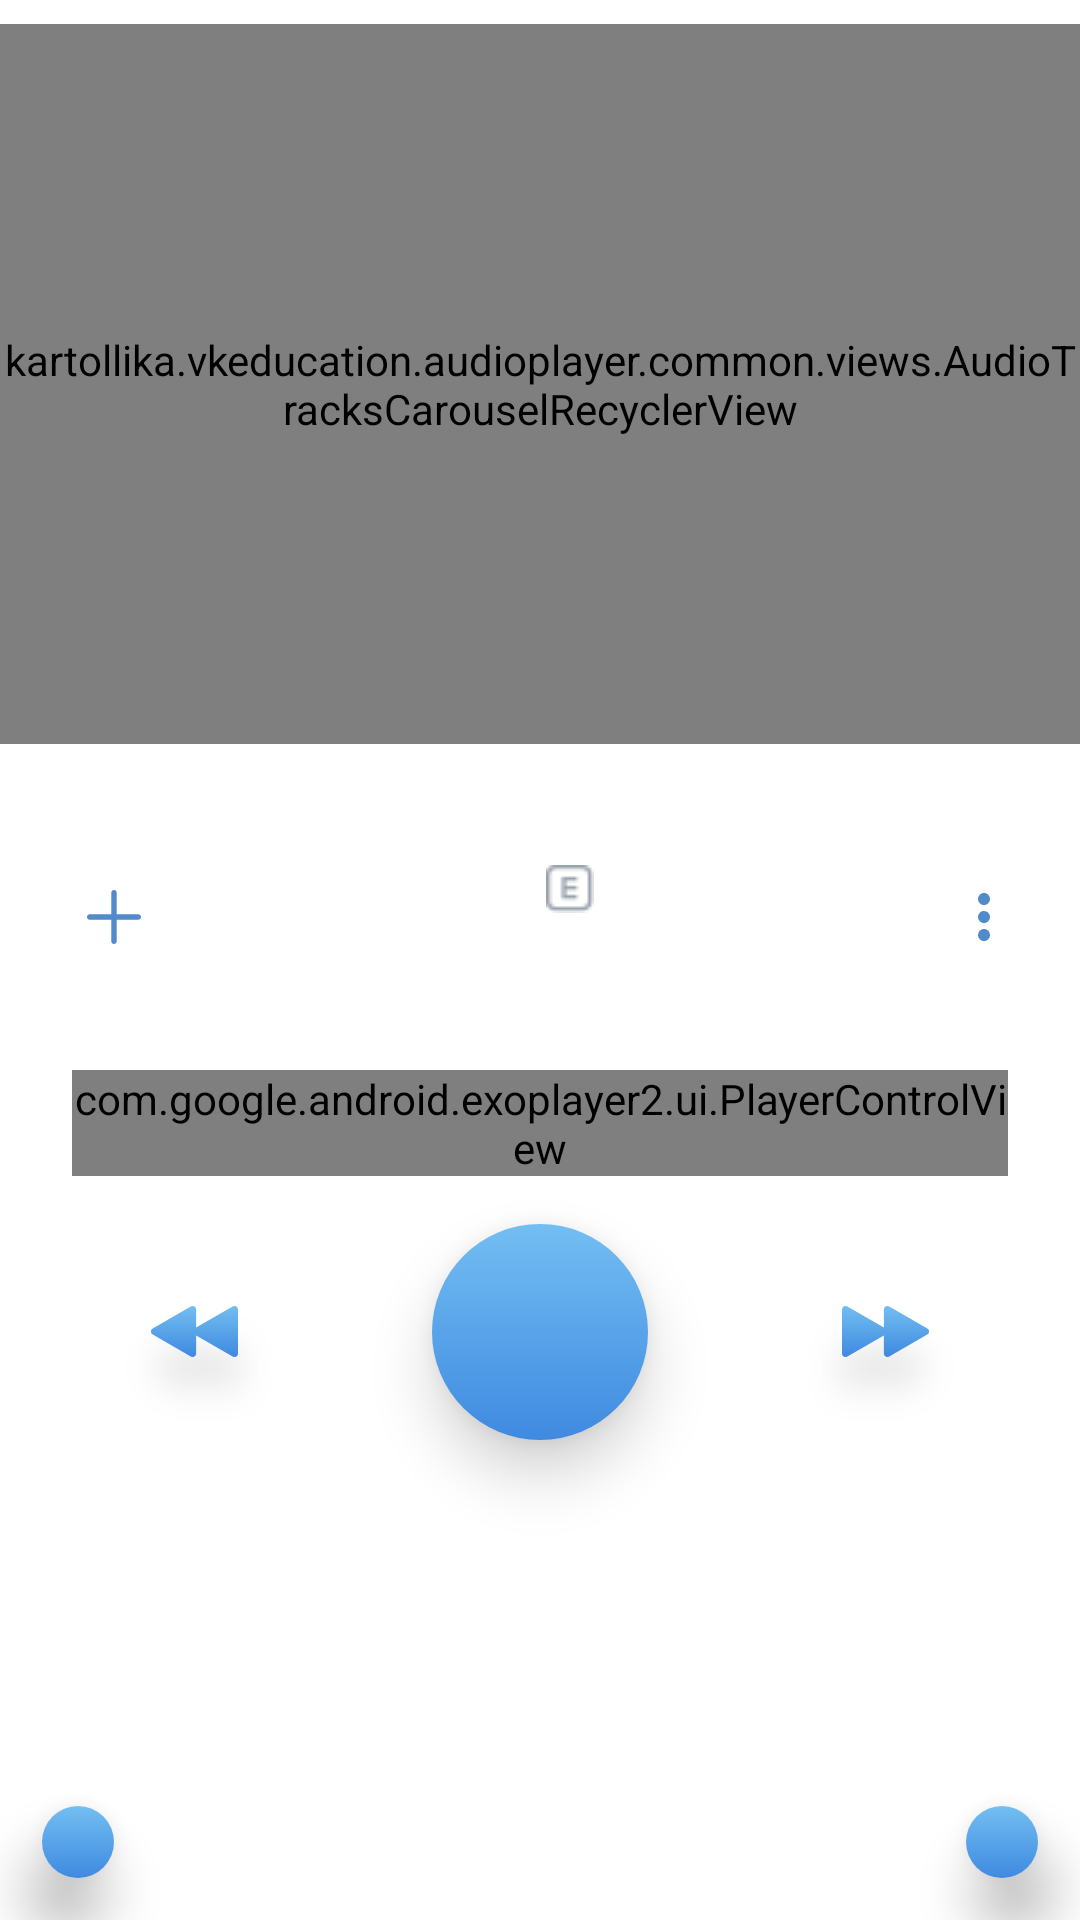

Icon click points for this 1080x1920 phone screenshot, format point (x, y):
add: point (114, 917)
explicit: point (570, 889)
more: point (984, 917)
